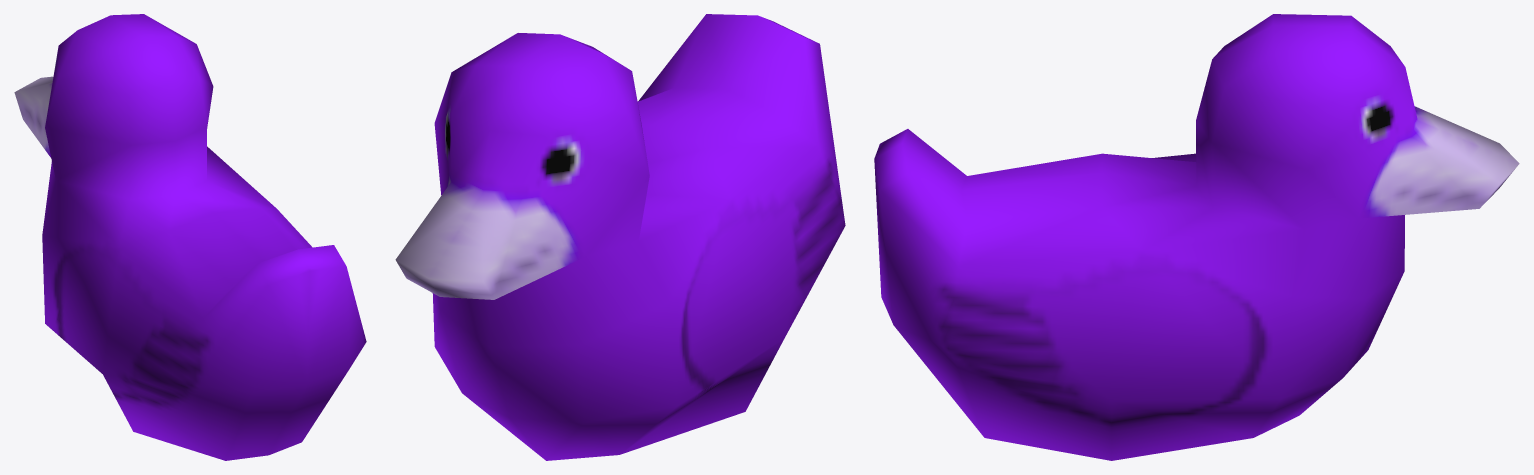
File: PurpleRubberducky.fbx
3 renders of one model, left to right at view 1: azimuth 30°, elevation 25°; view 2: azimuth 150°, elevation 25°; view 3: azimuth 270°, elevation 25°, orthographic. The views are drawn at different scales.
Visible parts, largest first — view 1: Object; view 2: Object; view 3: Object.
Part boxes in pixels (bbox=[...]): Object: bbox=[14, 14, 366, 460]; Object: bbox=[395, 14, 845, 460]; Object: bbox=[874, 14, 1519, 460].
Bounding box in the file's own units: 0.0718 × 0.1034 × 0.155.
